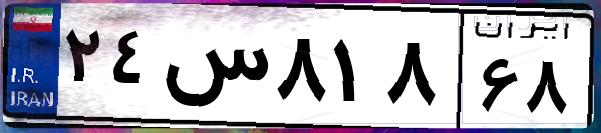1: (330, 28, 385, 110)
2: (57, 26, 110, 100)
4: (110, 28, 158, 98)
6: (475, 38, 525, 113)
8: (270, 28, 330, 110), (385, 28, 445, 110), (525, 38, 570, 115)
س: (158, 20, 270, 120)
